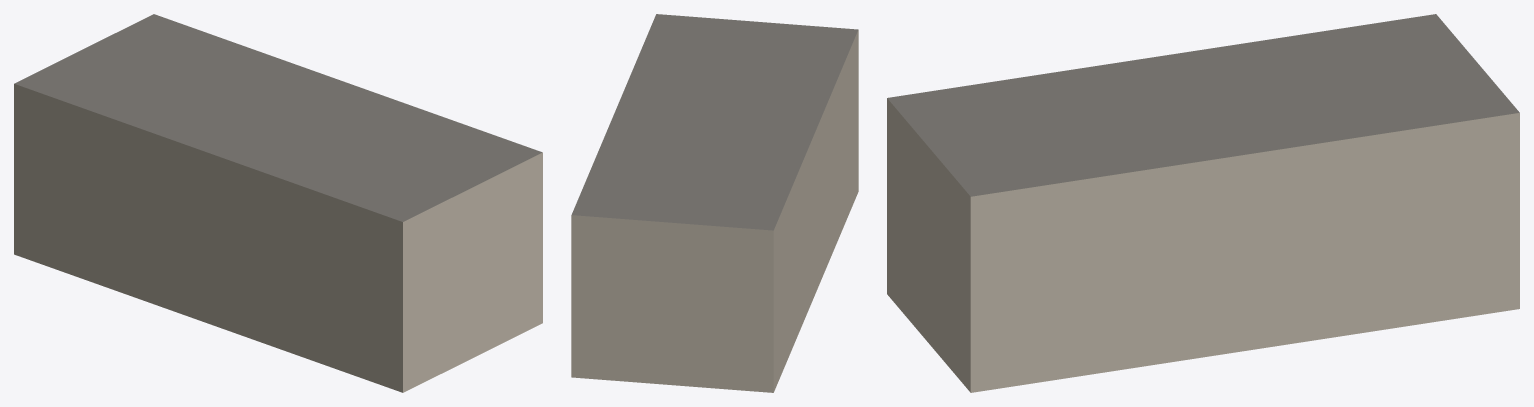
3 views of the same model, side by side, from view 1: azimuth 30°, elevation 25°; view 2: azimuth 150°, elevation 25°; view 3: azimuth 270°, elevation 25° (orthographic). The views are drawn at different scales.
Parts seen in each view (by area): view 1: HP-w369342584; view 2: HP-w369342584; view 3: HP-w369342584.
Boxes of the visible parts, x1,y1,x2,y2 form: HP-w369342584: (14,14,542,392); HP-w369342584: (571,14,858,392); HP-w369342584: (887,14,1519,392).
Bounding box in the file's own units: 35.96 × 18 × 52.62.
